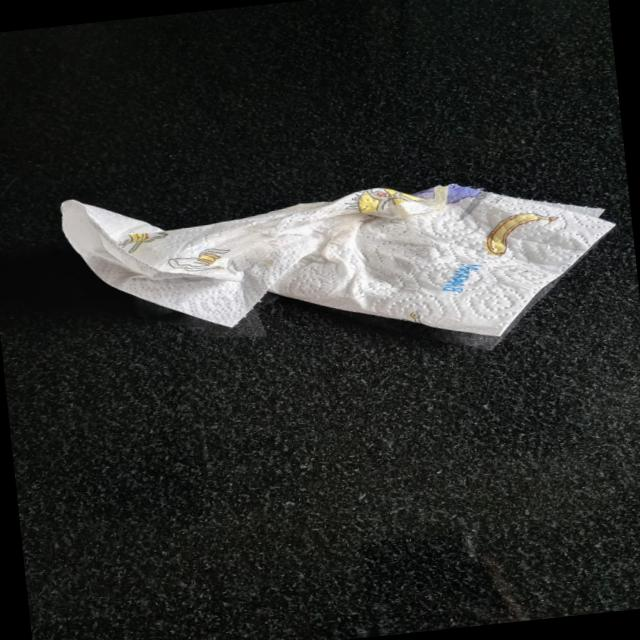organic waste: (44, 136, 631, 384)
